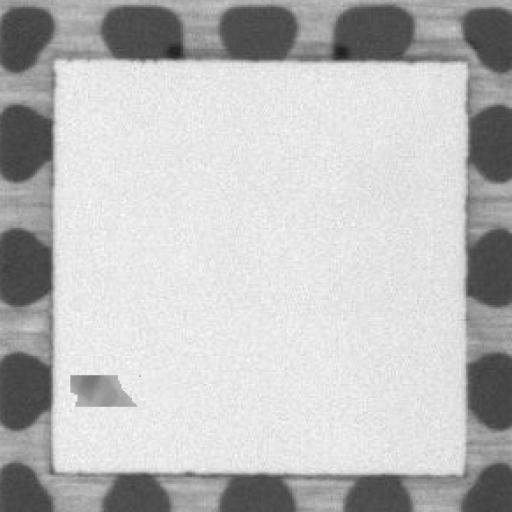DIE_INK: (68, 375, 146, 406)
